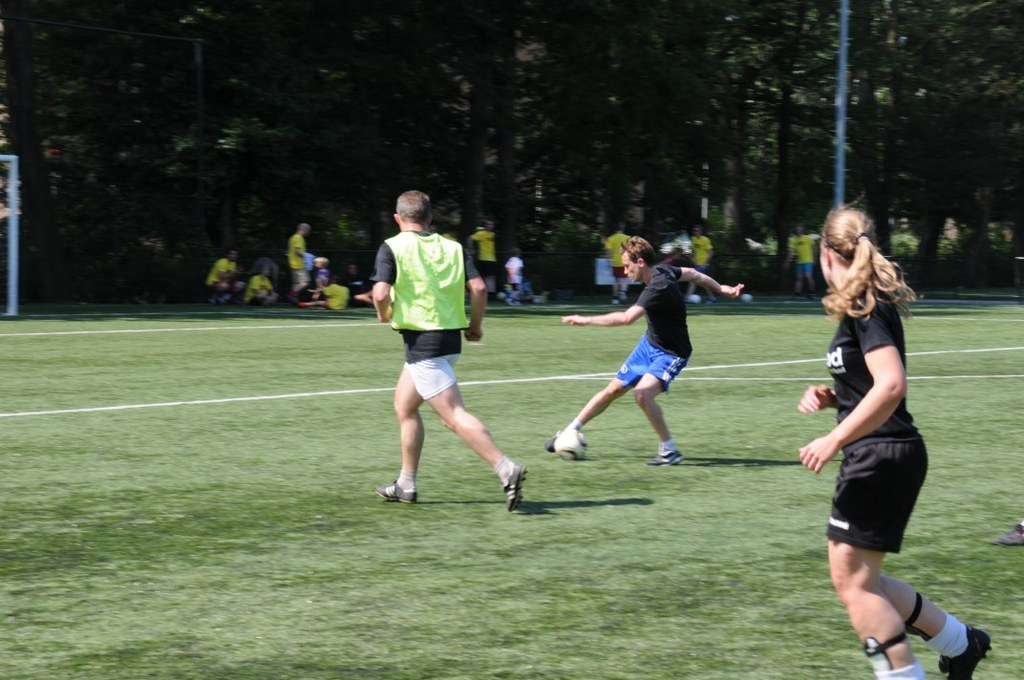Ball: (557, 424, 588, 461)
